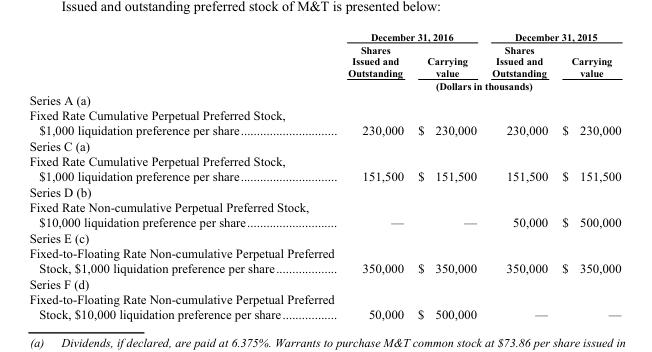table: (28, 28, 620, 320)
table column: (28, 28, 340, 320), (410, 28, 483, 320), (483, 28, 554, 320), (340, 28, 410, 320), (554, 28, 620, 320)
table column header: (28, 28, 620, 91)
table projected row header: (28, 91, 620, 107), (28, 137, 620, 153), (28, 183, 620, 199), (28, 229, 620, 245), (28, 275, 620, 291)
table row: (28, 42, 620, 79), (28, 107, 620, 137), (28, 153, 620, 183), (28, 199, 620, 229), (28, 245, 620, 275), (28, 291, 620, 320), (28, 91, 620, 107), (28, 137, 620, 153), (28, 183, 620, 199), (28, 229, 620, 245), (28, 275, 620, 291), (28, 28, 620, 42), (28, 79, 620, 91)
table spanning cell: (340, 79, 620, 91), (340, 28, 483, 42), (483, 28, 620, 42)
